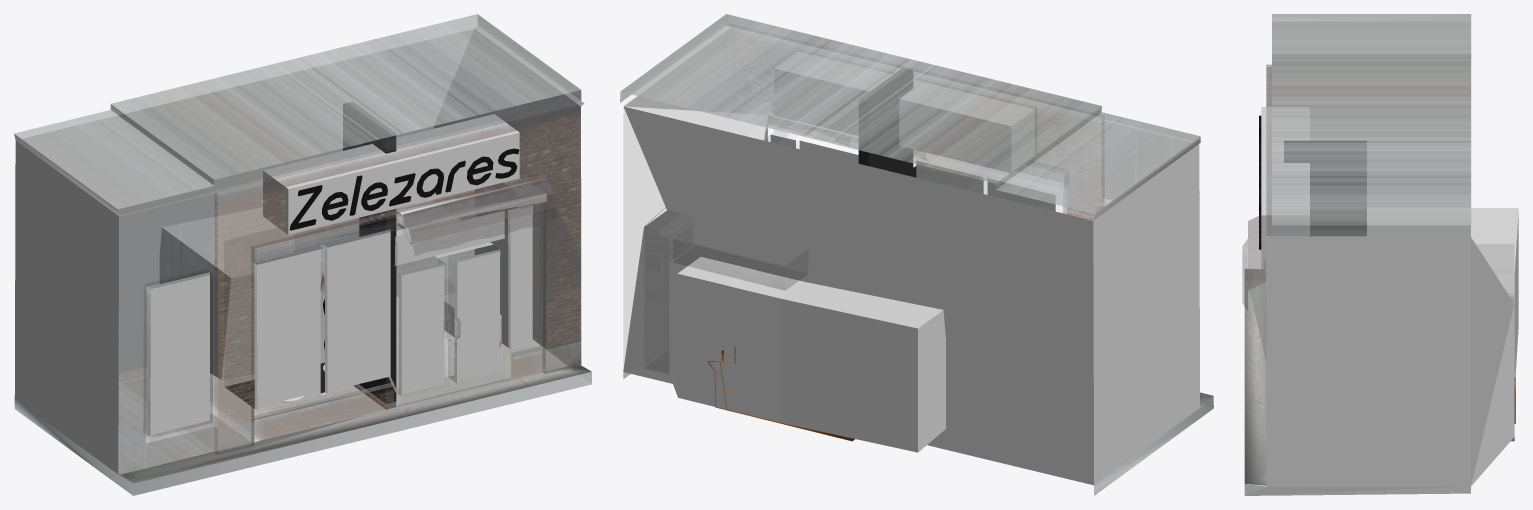
Rendered from brick_shopfront.glb.
3 views of the same model, side by side, from view 1: azimuth 30°, elevation 25°; view 2: azimuth 150°, elevation 25°; view 3: azimuth 270°, elevation 25° (orthographic). The views are drawn at different scales.
Parts seen in each view (by area): view 1: brick_shopfront; view 2: brick_shopfront; view 3: brick_shopfront.
Boxes of the visible parts, left/top/right/bottom form: brick_shopfront: left=14, top=14, right=591, bottom=495; brick_shopfront: left=620, top=14, right=1213, bottom=495; brick_shopfront: left=1242, top=14, right=1518, bottom=495.
Bounding box in the file's own units: 6.32 × 3.69 × 3.4.
18 materials, 7 textured.
